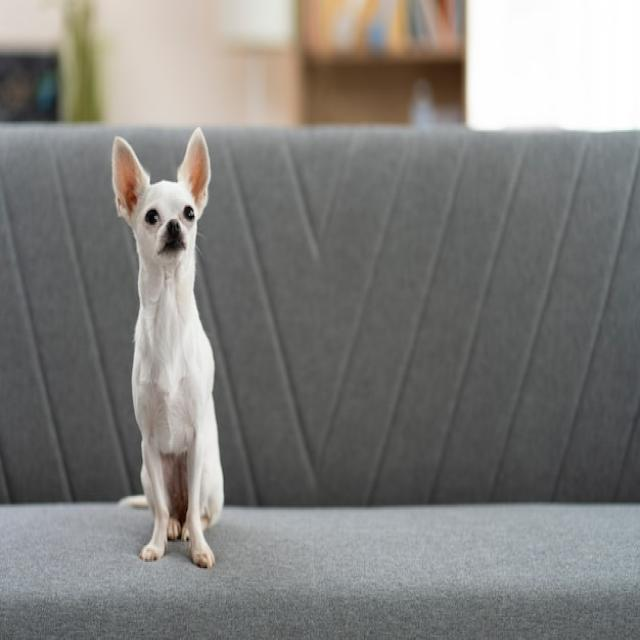Dog: (112, 128, 225, 566)
